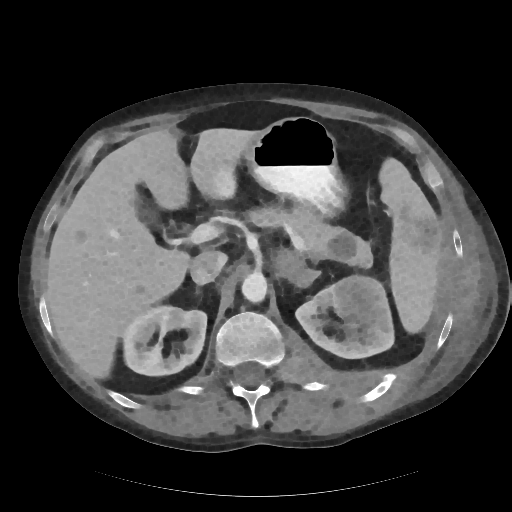Lesion: (330, 277, 395, 342)
